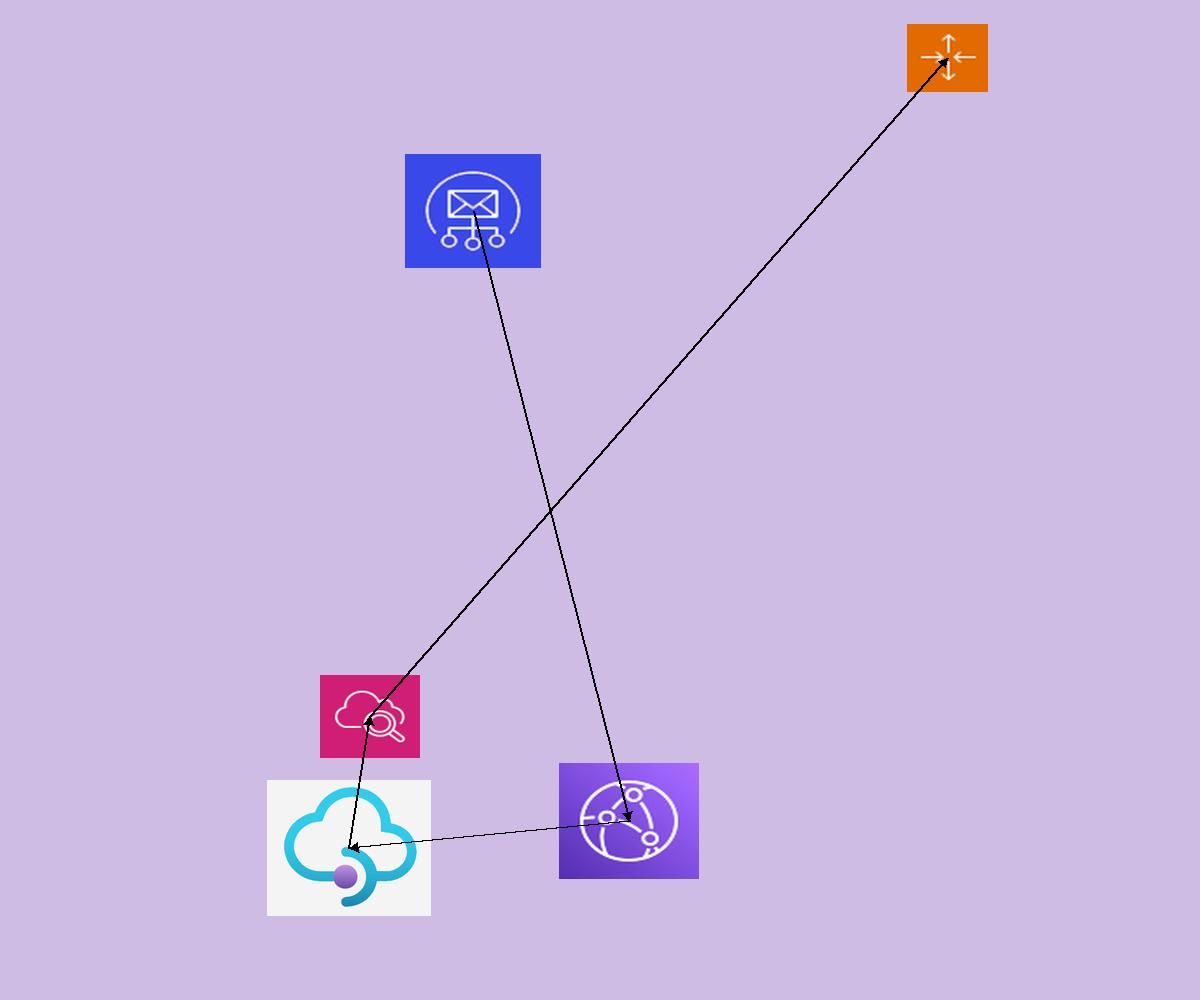AWS-CloudFront: (559, 763, 699, 879)
AWS-CloudWatch: (320, 675, 420, 758)
AWS-Scaling-group: (907, 24, 988, 92)
AWS-Simple-Email-Service: (405, 154, 541, 268)
Azure_api_gateway: (267, 780, 431, 916)
